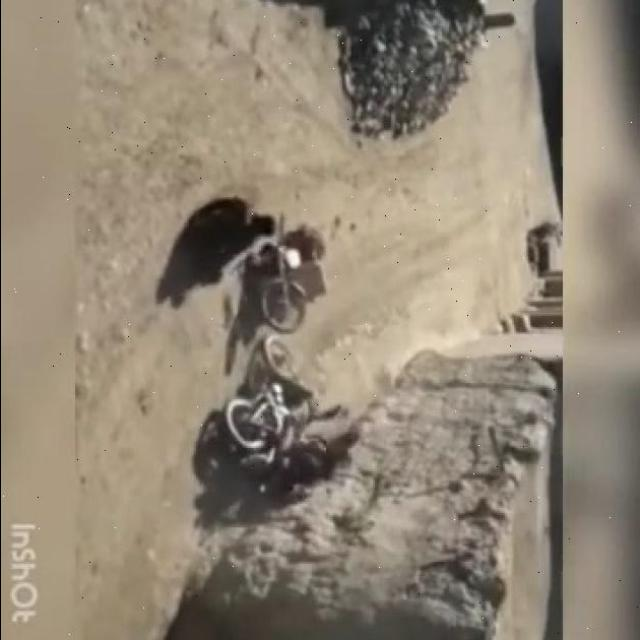accident: (218, 338, 322, 463), (258, 210, 330, 347)
